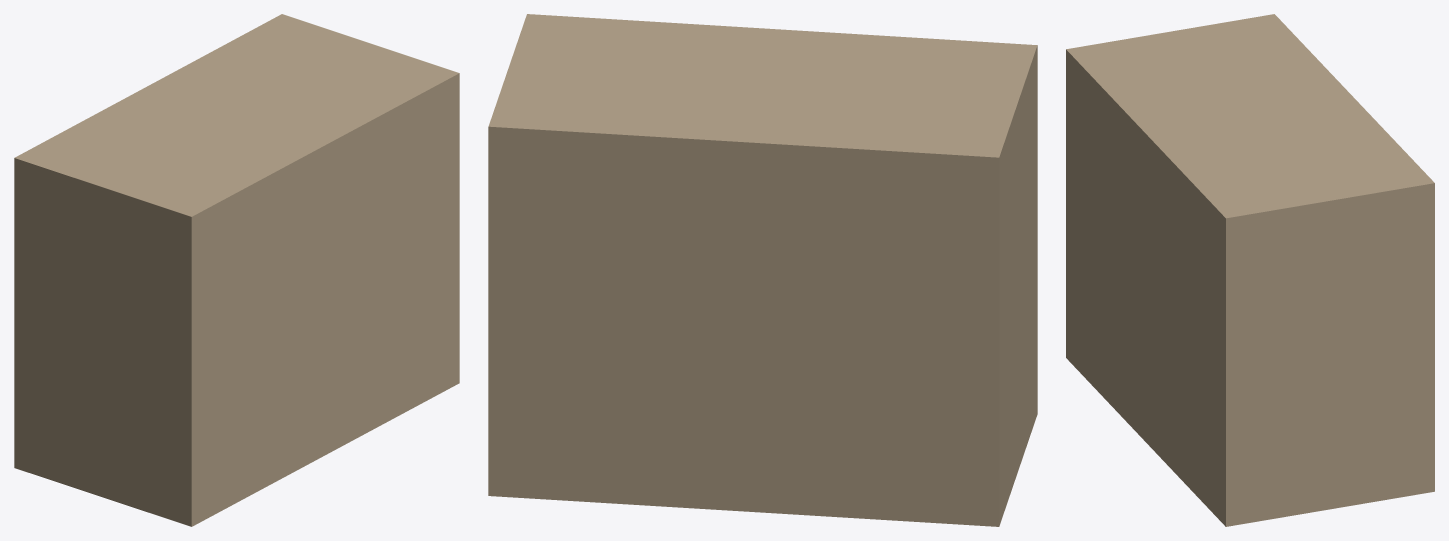
The model's file is bld_106415253.dae.
The picture shows the model from 3 angles, left to right: view 1: azimuth 30°, elevation 25°; view 2: azimuth 150°, elevation 25°; view 3: azimuth 270°, elevation 25°; orthographic projection. The views are drawn at different scales.
Parts seen in each view (by area): view 1: bld_106415253; view 2: bld_106415253; view 3: bld_106415253.
Part boxes in pixels (box(x1,y1,x2,y2)): bld_106415253: box(14, 14, 459, 526); bld_106415253: box(488, 14, 1037, 526); bld_106415253: box(1066, 14, 1434, 526).
Size of the model in its own units: 11.36 by 8.67 by 8.
